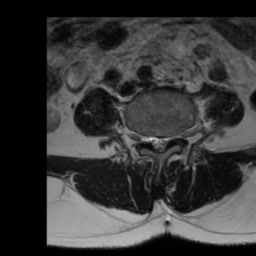CCS_stenosis: (156, 128, 163, 162)
LFS_severe_stenosis: (169, 127, 177, 148)
LLS_stenosis: (163, 128, 169, 155)
RFS_normal: (141, 126, 149, 150)
RLS_normal: (149, 128, 156, 154)
